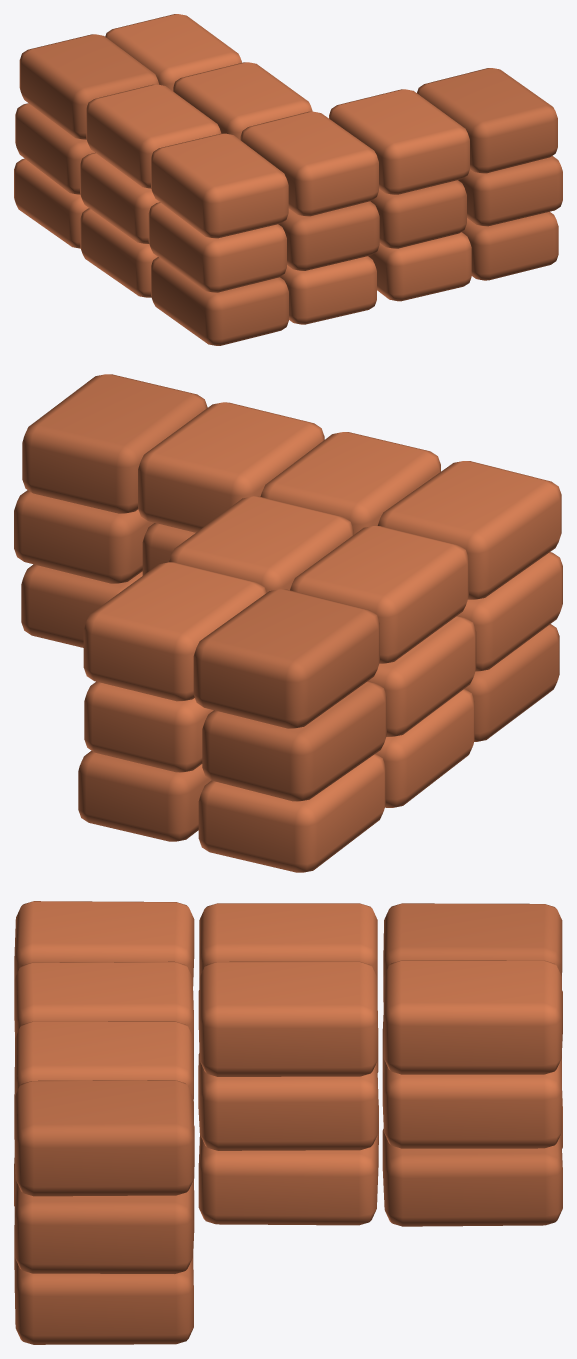
Rendered from BSC-10.glb.
The picture shows the model from 3 angles, top to bottom: view 1: azimuth 30°, elevation 25°; view 2: azimuth 150°, elevation 25°; view 3: azimuth 270°, elevation 25°; orthographic projection. The views are drawn at different scales.
Parts seen in each view (by area): view 1: handmade block.016, handmade block.022, handmade block.019, handmade block.023, handmade block.018, handmade block.017, handmade block.008, handmade block, handmade block.020, handmade block.021, handmade block.015, handmade block.011 (+8 smaller); view 2: handmade block.018, handmade block.023, handmade block.021, handmade block.022, handmade block.016, handmade block.017, handmade block.010, handmade block.002, handmade block.020, handmade block.019, handmade block.015, handmade block.005 (+7 smaller); view 3: handmade block.023, handmade block.020, handmade block.021, handmade block.005, handmade block.015, handmade block.004, handmade block.012, handmade block.013, handmade block.007, handmade block.016, handmade block.019, handmade block.022 (+2 smaller).
Boxes of the visible parts, x1,y1,x2,y2 form: handmade block.016: (151,133,288,238); handmade block.022: (329,89,469,194); handmade block.019: (240,111,378,216); handmade block.023: (417,68,557,173); handmade block.018: (19,34,159,139); handmade block.017: (86,84,221,188); handmade block.008: (148,202,286,292); handmade block: (151,257,288,345); handmade block.020: (173,62,312,139); handmade block.021: (105,14,241,90); handmade block.015: (458,156,562,226); handmade block.011: (278,201,379,270); handmade block.018: (193,589,379,728); handmade block.023: (22,374,207,513); handmade block.021: (83,562,266,701); handmade block.022: (138,402,324,532); handmade block.016: (377,461,561,599); handmade block.017: (290,526,468,663); handmade block.010: (202,681,386,801); handmade block.002: (198,754,385,872); handmade block.020: (169,496,353,592); handmade block.019: (260,432,440,534); handmade block.015: (14,490,154,583); handmade block.005: (78,750,211,841); handmade block.023: (14,1080,194,1196); handmade block.020: (199,961,377,1076); handmade block.021: (383,960,561,1074); handmade block.005: (382,1129,562,1226); handmade block.015: (14,1179,193,1273); handmade block.004: (198,1128,378,1225); handmade block.012: (198,1053,378,1150); handmade block.013: (383,1058,561,1148); handmade block.007: (14,1254,193,1344); handmade block.016: (14,901,194,985); handmade block.019: (14,961,193,1059); handmade block.022: (15,1021,193,1119).
Bounding box in the file's own units: 1.94 × 0.815 × 1.85.
